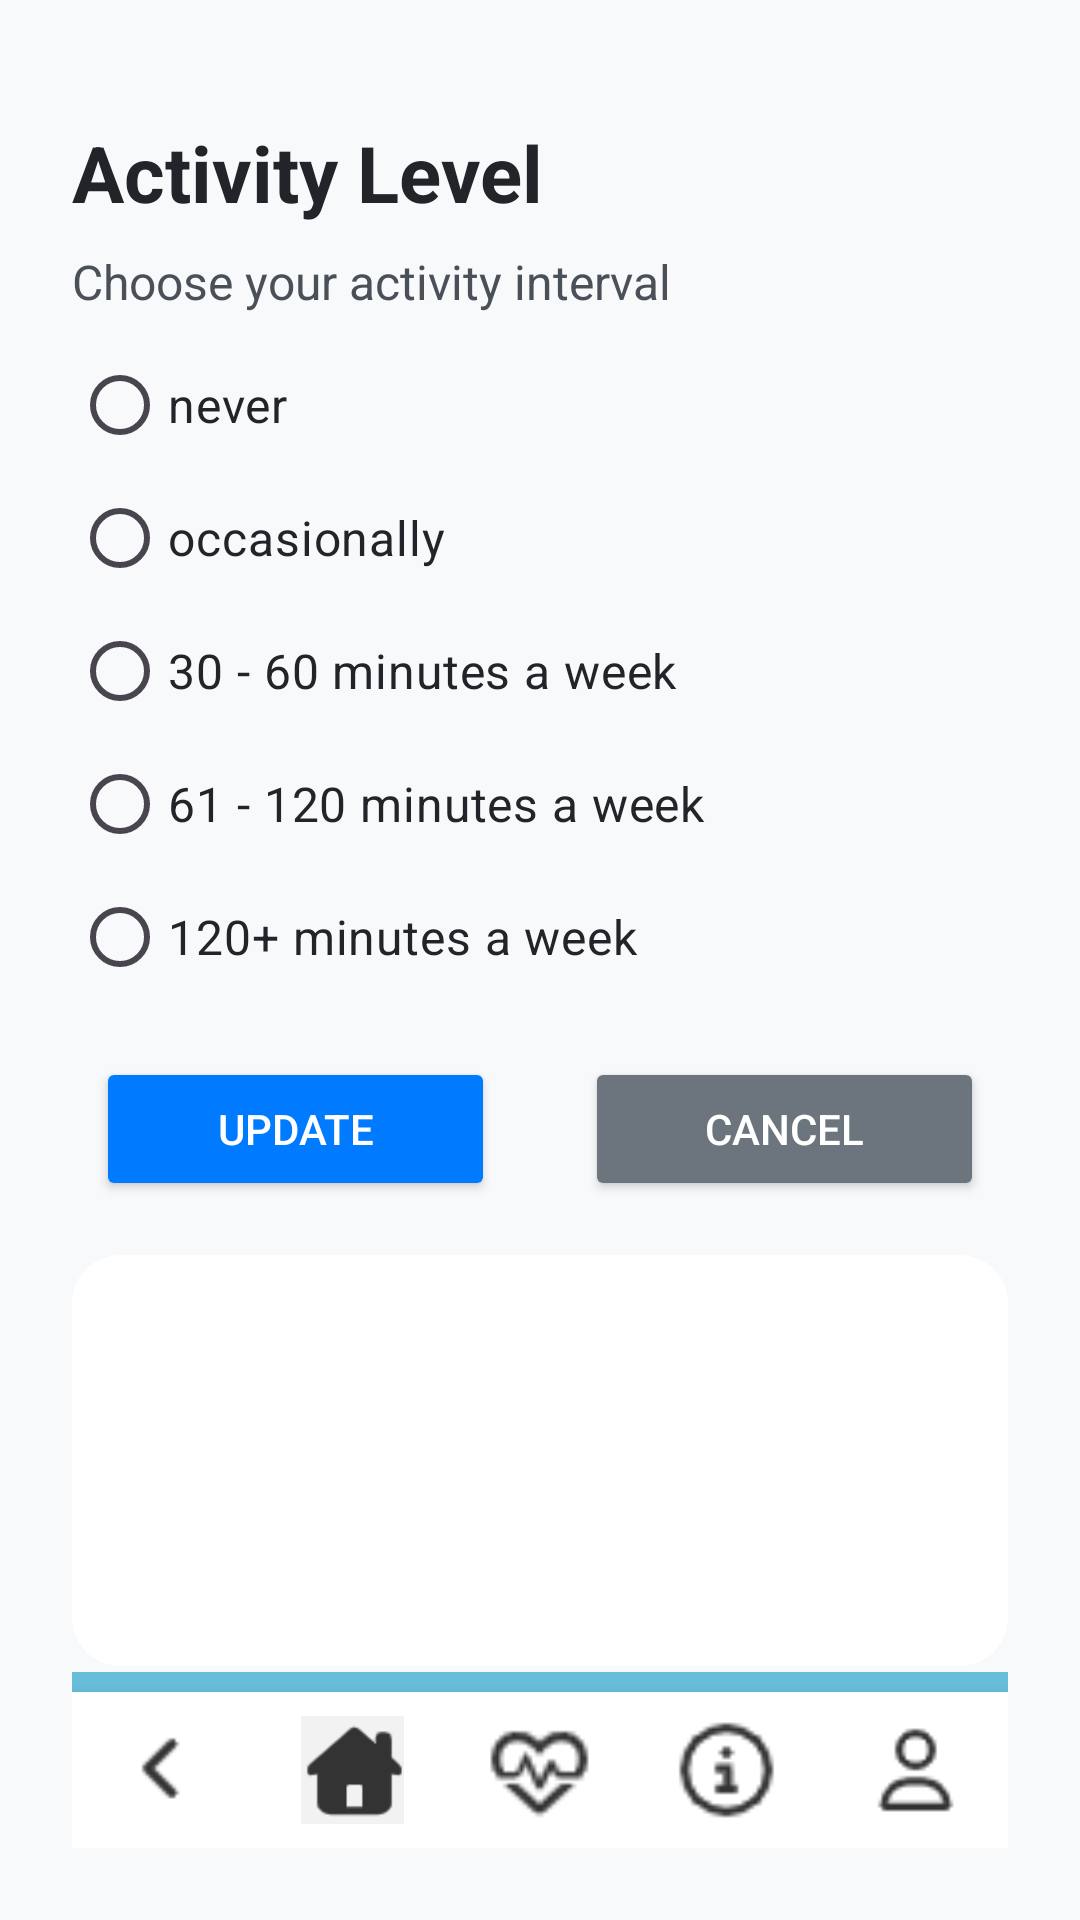

Named icons in this screenshot (1080w x 1920h) and their bounding boxes, [left=x1, top=y1, right=x2, bottom=y2]:
Back: [left=141, top=1738, right=179, bottom=1799]
Home: [left=306, top=1725, right=402, bottom=1817]
Info: [left=679, top=1722, right=774, bottom=1818]
Profile: [left=878, top=1728, right=954, bottom=1812]
